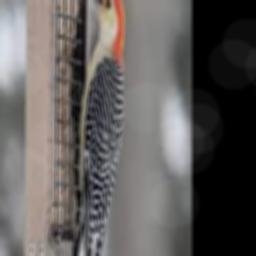Woodpecker: (61, 0, 124, 256)
